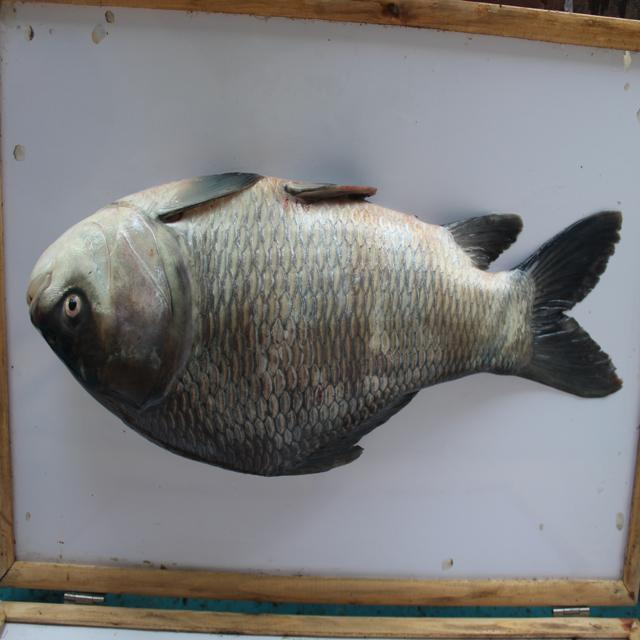Catla: (19, 169, 620, 475)
